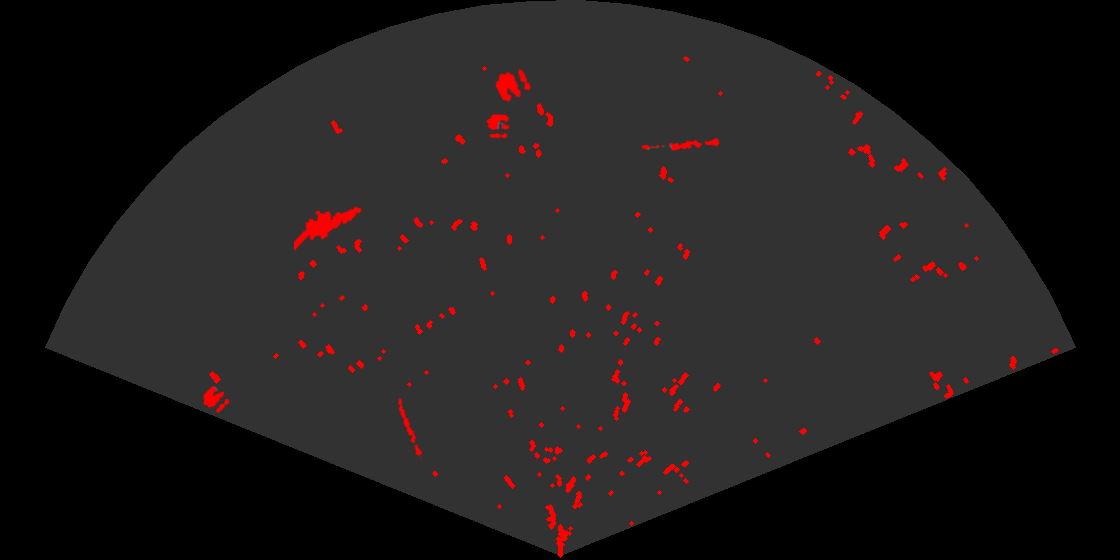ball: (494, 67, 533, 104), (201, 384, 231, 414), (485, 113, 512, 140)
chain: (396, 395, 424, 460), (640, 137, 721, 153)
frogman: (294, 205, 363, 253)
